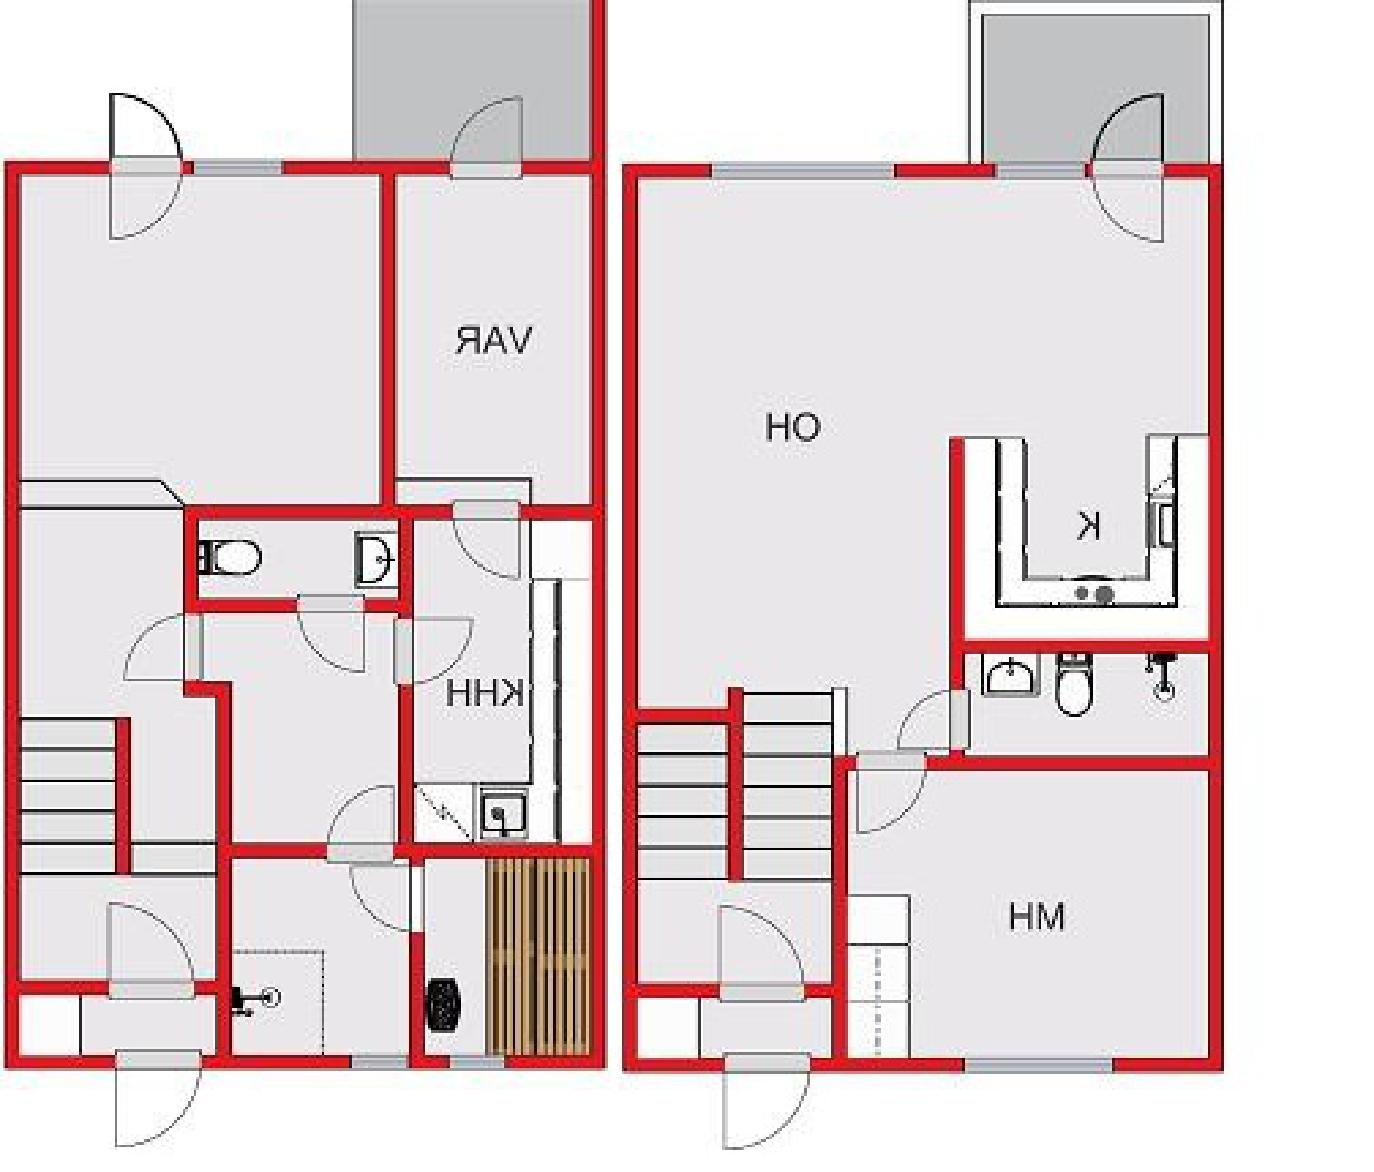door: (103, 85, 195, 246), (1093, 88, 1173, 256), (115, 1046, 207, 1150), (103, 901, 199, 999), (720, 898, 806, 1005), (720, 1050, 807, 1153), (849, 748, 933, 841), (897, 677, 979, 763), (455, 93, 528, 188), (446, 496, 522, 588), (296, 596, 368, 681), (121, 607, 201, 683), (346, 859, 423, 932), (327, 779, 395, 860), (392, 623, 472, 688)
window: (704, 162, 896, 183), (960, 1053, 1117, 1077), (993, 160, 1085, 183), (195, 157, 284, 176), (449, 1050, 502, 1077), (352, 1057, 408, 1075)
zone: (637, 177, 1217, 985), (27, 176, 379, 503), (849, 774, 1208, 1059), (19, 510, 214, 977), (402, 169, 591, 510), (413, 521, 593, 844), (198, 606, 401, 839), (357, 3, 591, 163), (229, 856, 408, 1058), (986, 12, 1209, 163), (423, 850, 588, 1053), (960, 648, 1209, 757), (195, 519, 399, 603), (20, 993, 215, 1059)
